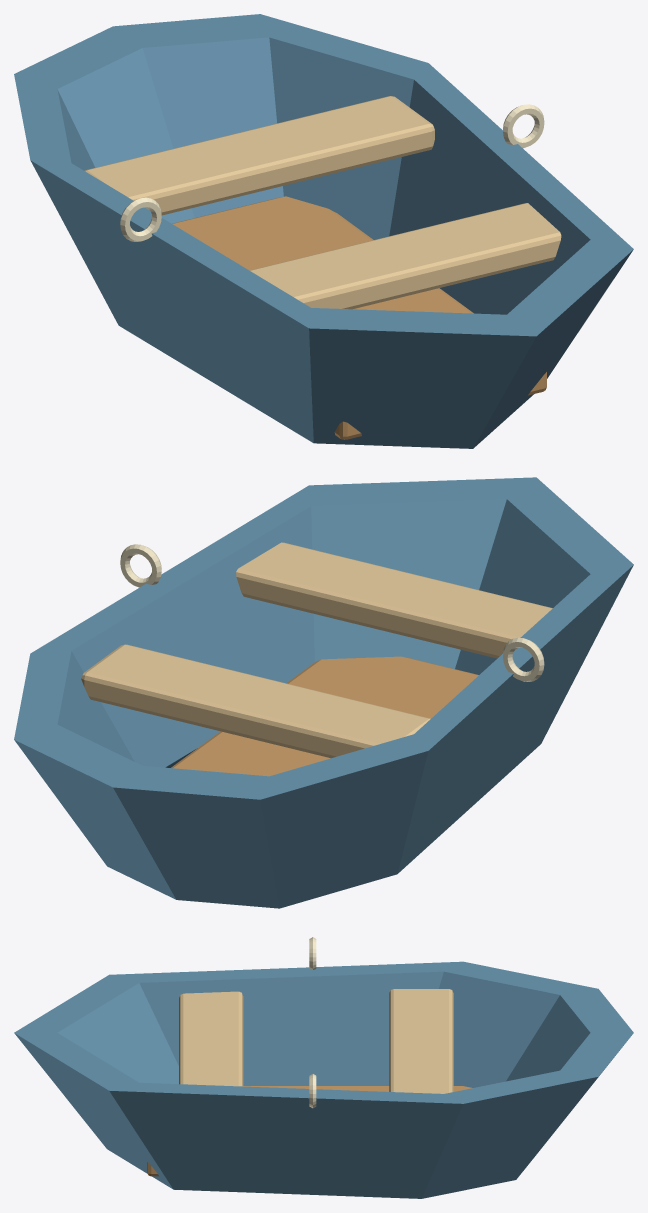
The model's file is S092_rowboat_shell.glb.
The picture shows the model from 3 angles, top to bottom: view 1: azimuth 30°, elevation 25°; view 2: azimuth 150°, elevation 25°; view 3: azimuth 270°, elevation 25°; orthographic projection. The views are drawn at different scales.
Parts seen in each view (by area): view 1: foam_boat_hull, boat_bench.001, boat_bench, boat_bottom, oarlock, oarlock.001; view 2: foam_boat_hull, boat_bench.001, boat_bench, boat_bottom, oarlock, oarlock.001; view 3: foam_boat_hull, boat_bench.001, boat_bench, boat_bottom.
Part boxes in pixels (x1=…): foam_boat_hull: x1=14, y1=14, x2=633, y2=448; boat_bench.001: x1=84, y1=96, x2=434, y2=215; boat_bench: x1=250, y1=203, x2=561, y2=309; boat_bottom: x1=172, y1=196, x2=546, y2=439; oarlock: x1=120, y1=197, x2=161, y2=241; oarlock.001: x1=503, y1=104, x2=544, y2=148; foam_boat_hull: x1=14, y1=477, x2=633, y2=908; boat_bench.001: x1=81, y1=644, x2=430, y2=758; boat_bench: x1=236, y1=542, x2=552, y2=658; boat_bottom: x1=171, y1=656, x2=478, y2=776; oarlock: x1=503, y1=637, x2=544, y2=681; oarlock.001: x1=120, y1=544, x2=161, y2=587; foam_boat_hull: x1=14, y1=961, x2=633, y2=1198; boat_bench.001: x1=389, y1=989, x2=453, y2=1093; boat_bench: x1=179, y1=991, x2=243, y2=1086; boat_bottom: x1=147, y1=1086, x2=472, y2=1176.
Bounding box in the file's own units: 1.62 × 0.709 × 2.8.
